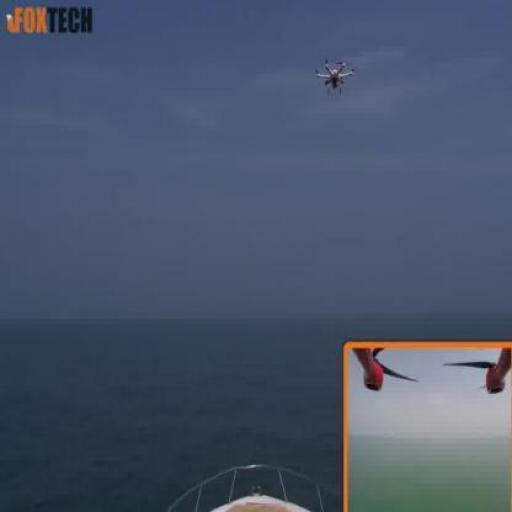drone: (309, 49, 363, 105)
